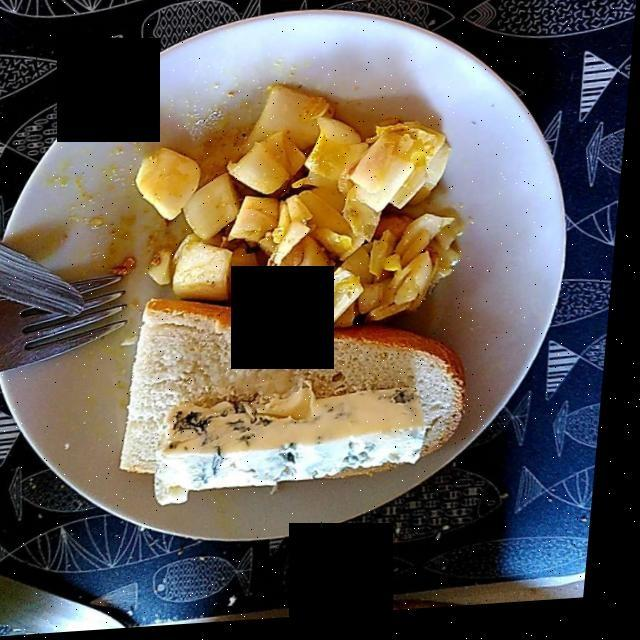bread: (143, 328, 455, 501)
witloof-chicory: (147, 89, 464, 328)
